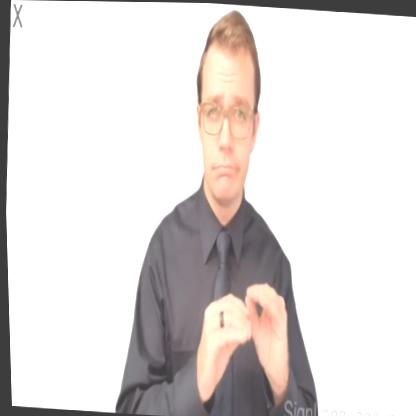Fix: (193, 262, 294, 402)
